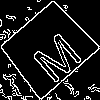M: (23, 23, 85, 86)
